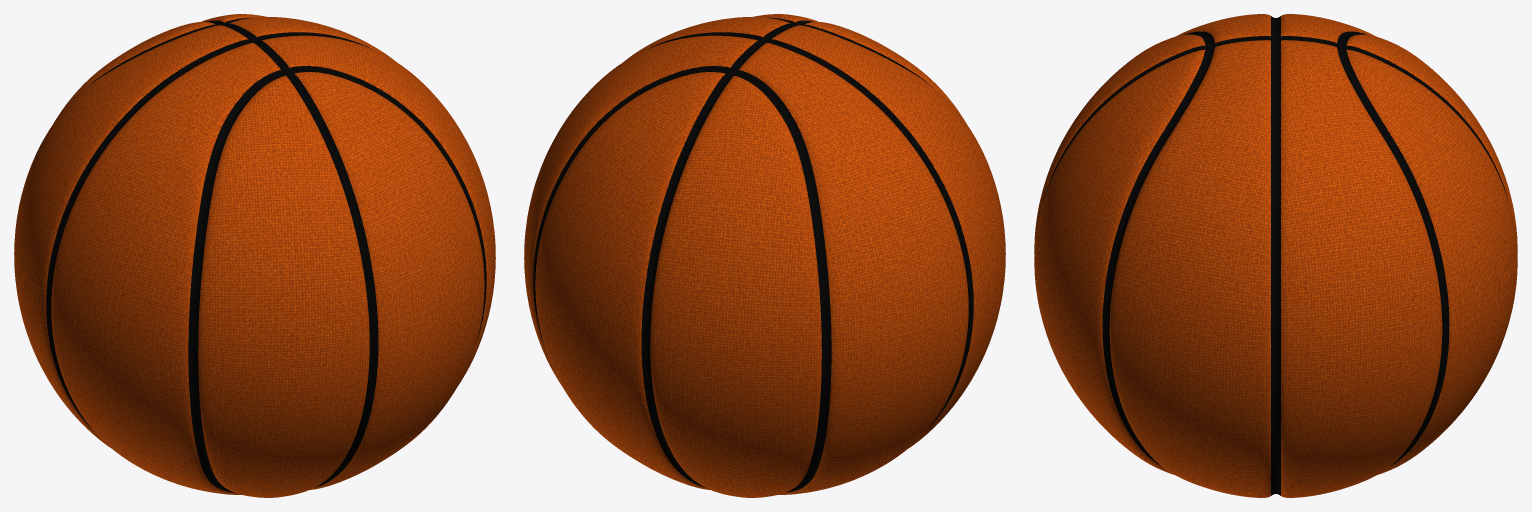
The model's file is Basketball_butbetter.fbx.
The picture shows the model from 3 angles, left to right: view 1: azimuth 30°, elevation 25°; view 2: azimuth 150°, elevation 25°; view 3: azimuth 270°, elevation 25°; orthographic projection.
Visible parts, largest first — view 1: Basketball.001; view 2: Basketball.001; view 3: Basketball.001.
Boxes of the visible parts, left/top/right/bottom form: Basketball.001: left=14, top=14, right=495, bottom=497; Basketball.001: left=524, top=14, right=1005, bottom=497; Basketball.001: left=1034, top=14, right=1517, bottom=497.
Bounding box in the file's own units: 162 × 162 × 162.
